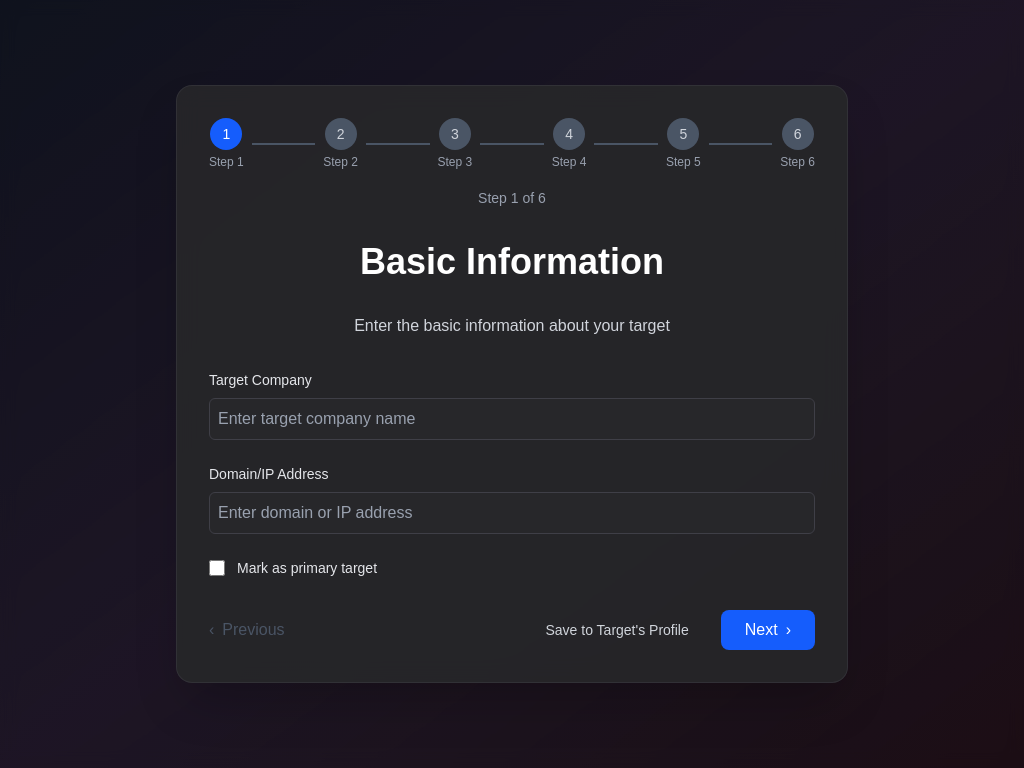
TargetProfileBuilder › should navigate between steps
Type "Test Company" into the field labelled "Target Company". click: {"x": 512, "y": 419}
box: [209,398,815,440]
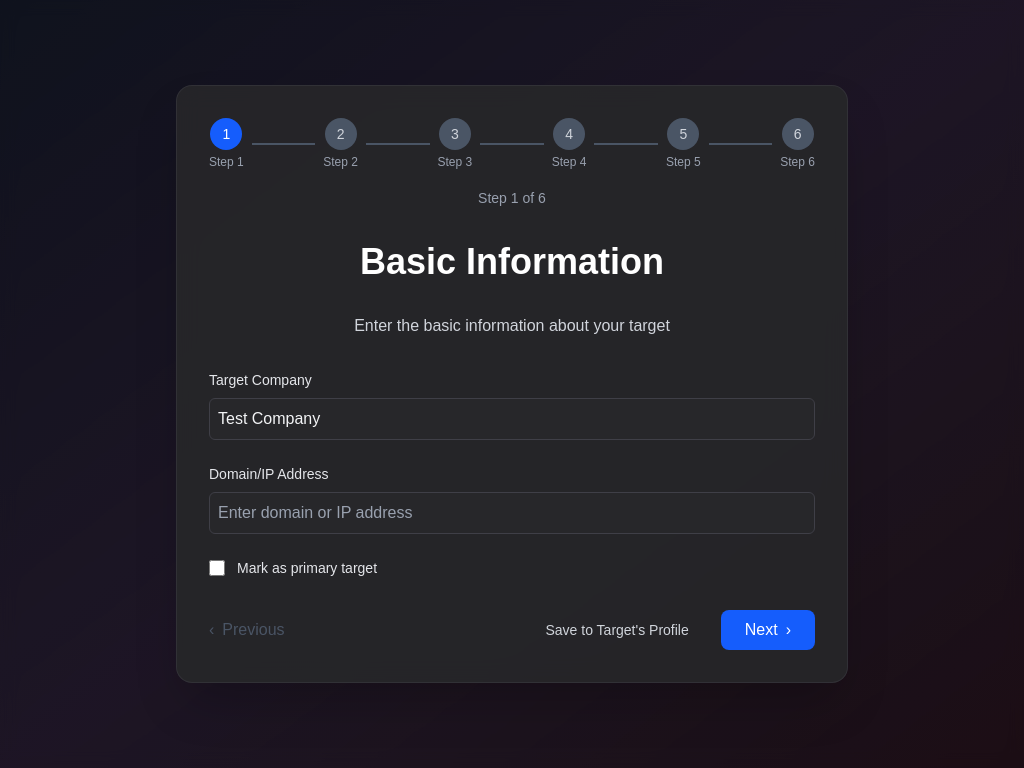
Type "test.com" into the field labelled "Domain/IP Address". click: {"x": 512, "y": 513}
box: [209,492,815,534]
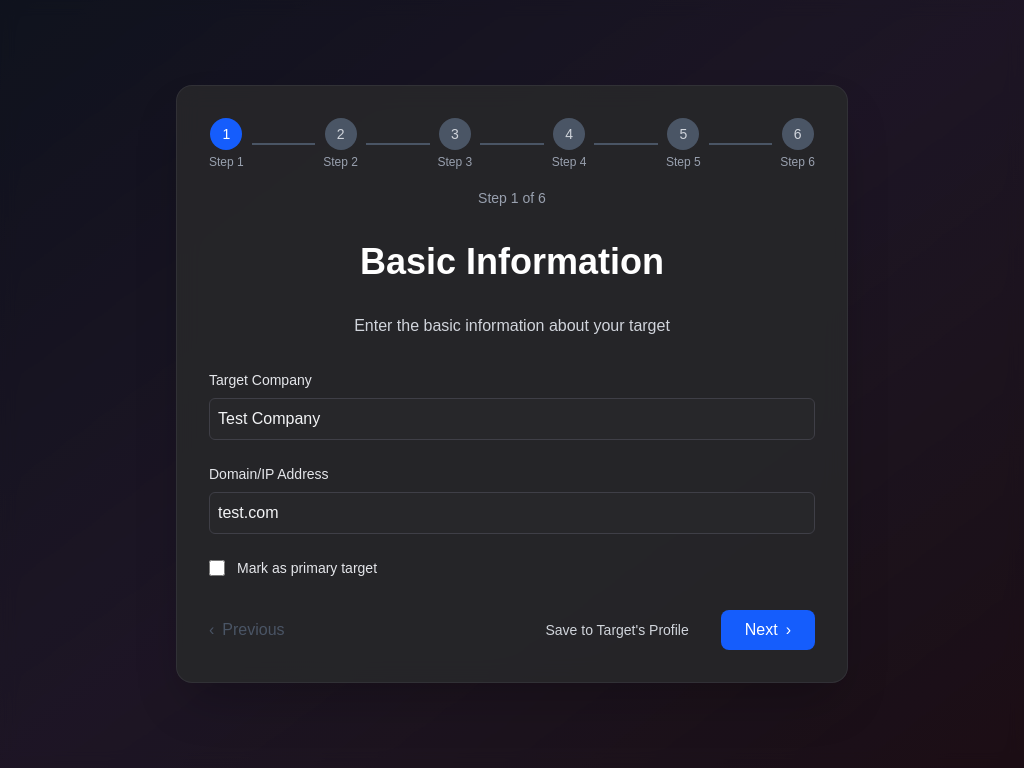
// Click Next
Click the text "Next". click: {"x": 761, "y": 630}
box: [745,618,778,642]
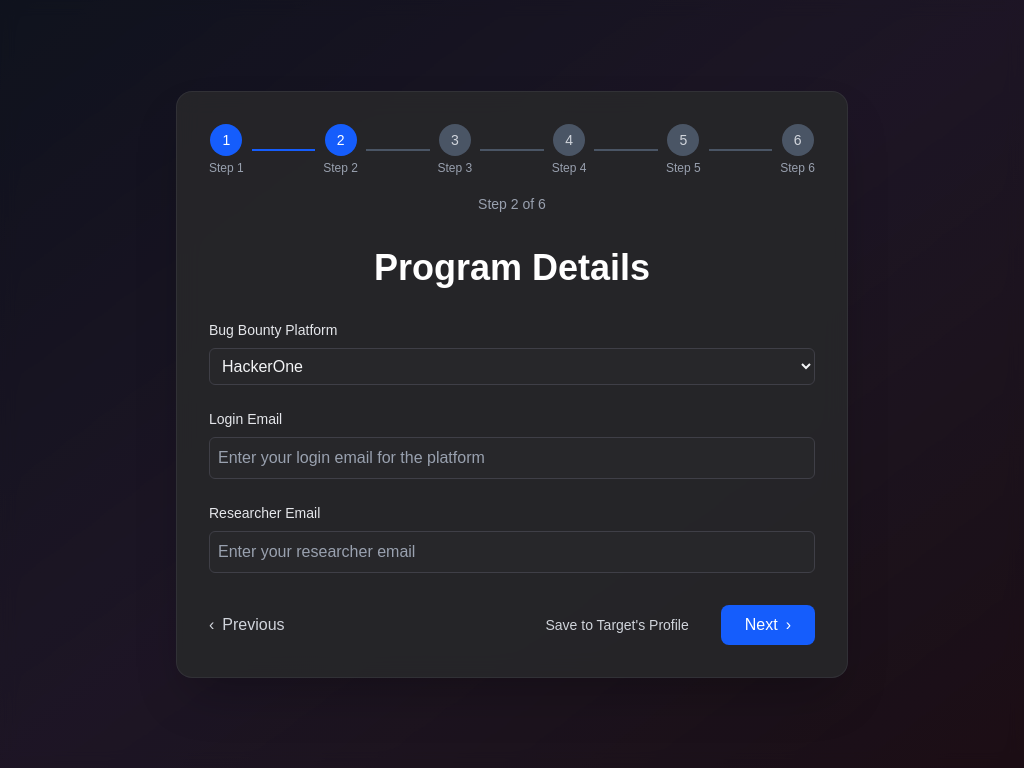
Now the heading "Program Details" is shown, box [374,246,650,288]
